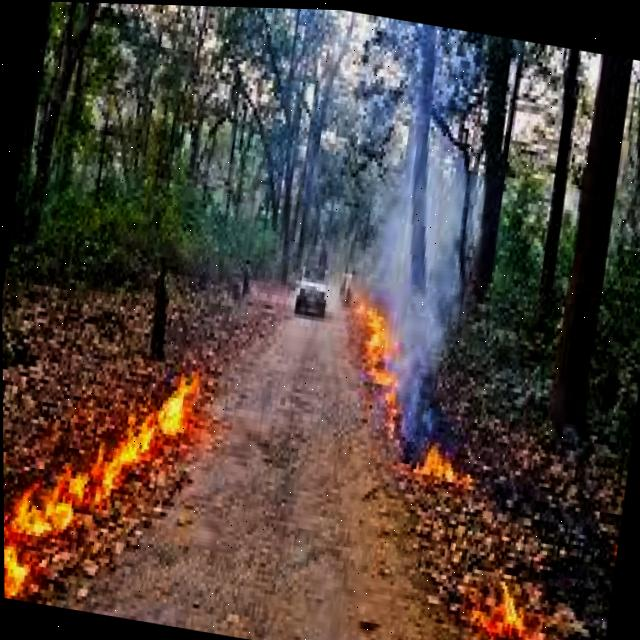fire: (3, 369, 219, 602), (351, 294, 406, 400), (473, 584, 541, 640)
smoke: (364, 108, 482, 415)
